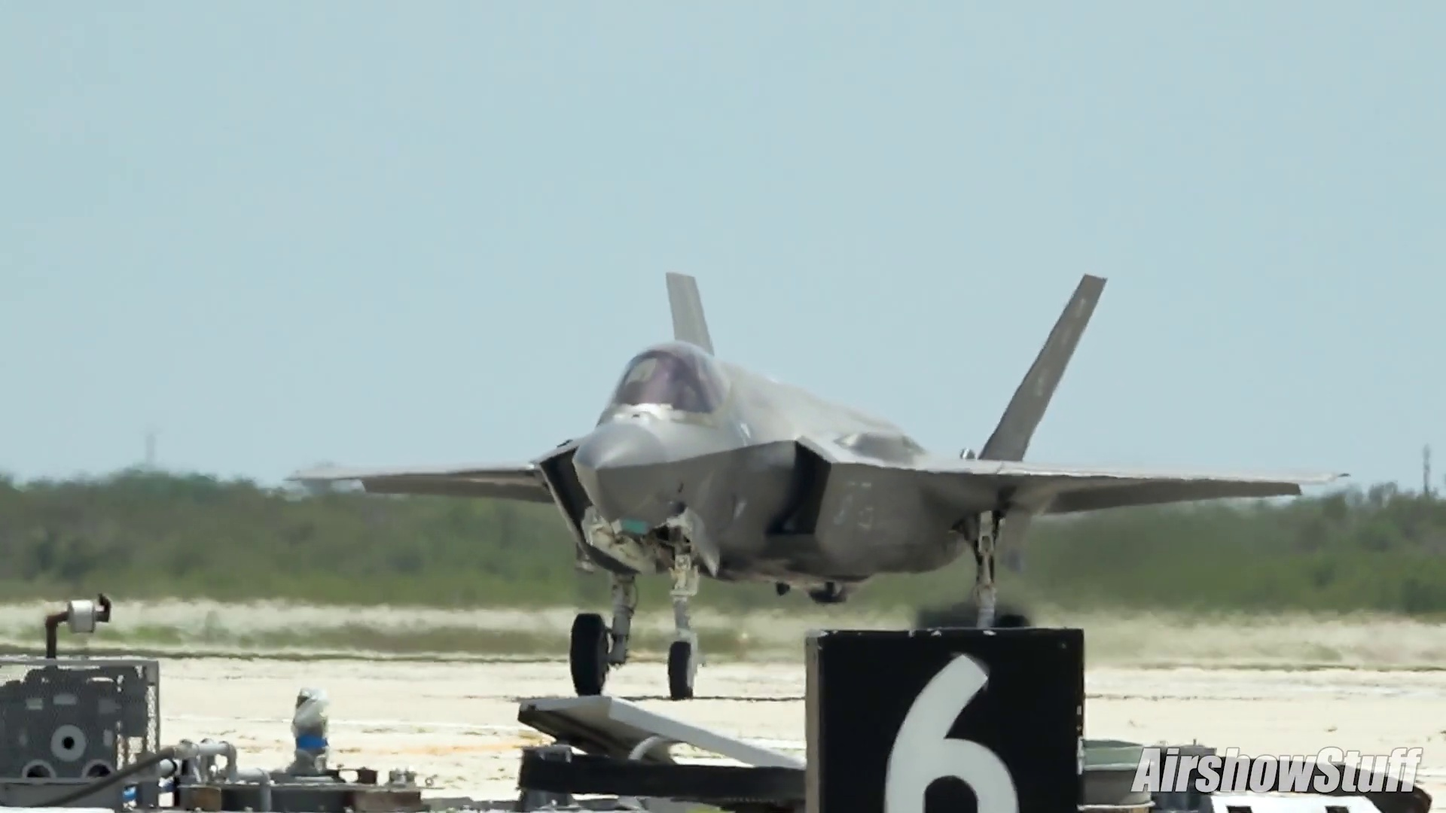F35: (281, 263, 1356, 700)
